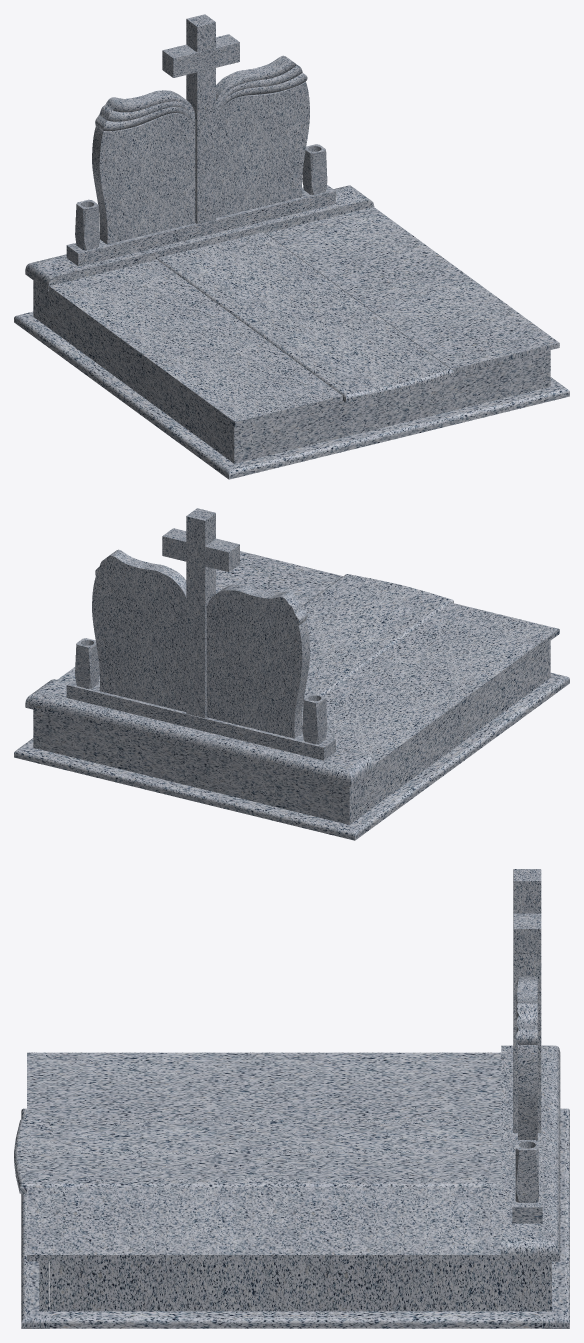
File: Test animatie1.glb
The picture shows the model from 3 angles, top to bottom: view 1: azimuth 30°, elevation 25°; view 2: azimuth 150°, elevation 25°; view 3: azimuth 270°, elevation 25°; orthographic projection. The views are drawn at different scales.
Visible parts, largest first — view 1: Capac stanga, Capac mijloc, Capac dreapta, Monumente textura split, Monumente textura, Cadru picioare, Cadru stanga, Inaltator picioare, Jug, Cruce verticala textura, Postament textura, Inaltator stanga (+3 smaller); view 2: Capac stanga, Monumente textura split, Monumente textura, Cadru cap, Capac mijloc, Jug, Cadru stanga, Inaltator cap, Cruce verticala textura, Postament textura, Inaltator stanga, Capac dreapta (+3 smaller); view 3: Capac dreapta, Capac mijloc, Capac stanga, Cadru dreapta, Inaltator dreapta, Jug, Cruce verticala textura, Monumente textura, Inaltator cap, Inaltator picioare, Postament textura, Vaza dreapta textura (+1 smaller).
Boxes of the visible parts, x1,y1,x2,y2 form: Capac stanga: (49, 260, 342, 426); Capac mijloc: (157, 232, 453, 402); Capac dreapta: (266, 207, 559, 373); Monumente textura split: (92, 90, 195, 244); Monumente textura: (216, 55, 309, 217); Cadru picioare: (230, 350, 550, 463); Cadru stanga: (37, 284, 230, 460); Inaltator picioare: (218, 381, 569, 479); Jug: (25, 185, 374, 291); Cruce verticala textura: (186, 14, 215, 224); Postament textura: (66, 185, 335, 266); Inaltator stanga: (25, 320, 229, 471); Capac stanga: (302, 602, 559, 769); Monumente textura split: (206, 585, 309, 738); Monumente textura: (92, 549, 186, 711); Cadru cap: (33, 709, 353, 824); Capac mijloc: (302, 574, 453, 711); Jug: (25, 679, 374, 786); Cadru stanga: (353, 644, 546, 821); Inaltator cap: (14, 742, 365, 840); Cruce verticala textura: (186, 508, 215, 718); Postament textura: (66, 678, 335, 760); Inaltator stanga: (354, 681, 558, 832); Capac dreapta: (57, 551, 342, 682); Capac dreapta: (27, 1187, 501, 1261); Capac mijloc: (14, 1119, 501, 1193); Capac stanga: (27, 1052, 501, 1119); Cadru dreapta: (50, 1261, 541, 1311); Inaltator dreapta: (49, 1307, 542, 1328); Jug: (501, 1045, 560, 1261); Cruce verticala textura: (513, 869, 541, 1132); Monumente textura: (516, 976, 537, 1140); Inaltator cap: (541, 1108, 569, 1328); Inaltator picioare: (21, 1108, 49, 1328); Postament textura: (512, 1047, 542, 1223); Vaza dreapta textura: (515, 1140, 538, 1202).
Bounding box in the file's own units: 215 × 164 × 238.
19 materials, 19 textured.
